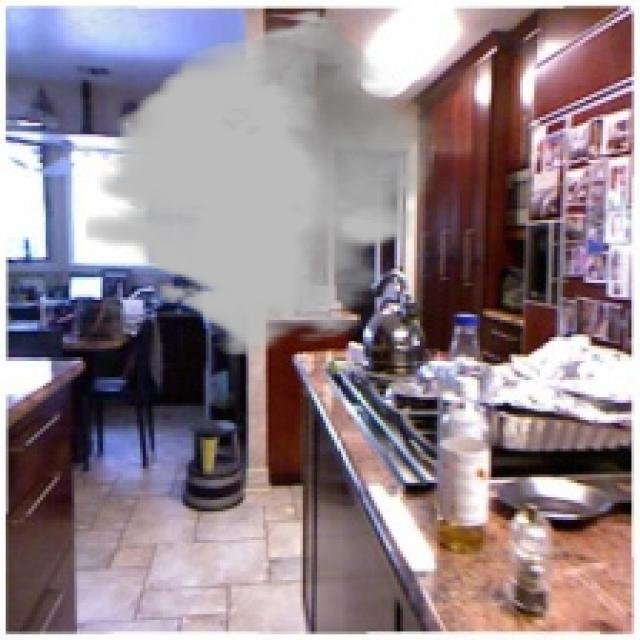smoke: (86, 9, 434, 357)
